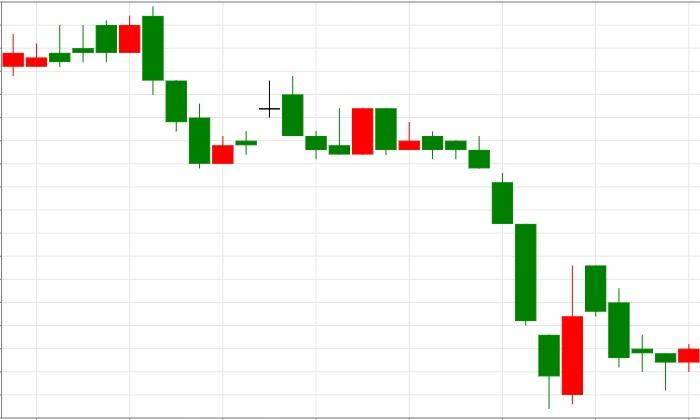three_black_crows_fall: (2, 5, 211, 169)
